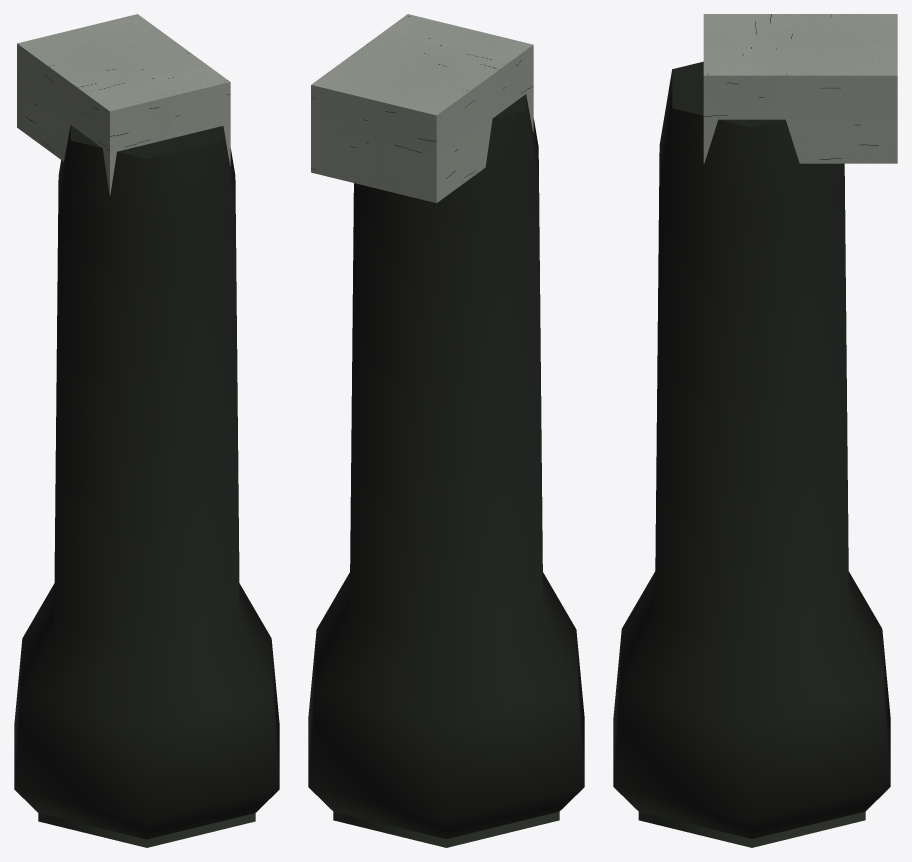
The model's file is SM_FieldKit_Handset_LOD2.glb.
3 views of the same model, side by side, from view 1: azimuth 30°, elevation 25°; view 2: azimuth 150°, elevation 25°; view 3: azimuth 270°, elevation 25° (orthographic). The views are drawn at different scales.
Parts seen in each view (by area): view 1: SM_FieldKit_Handset_LOD2; view 2: SM_FieldKit_Handset_LOD2; view 3: SM_FieldKit_Handset_LOD2.
Boxes of the visible parts, box(x1,y1,x2,y2) form: SM_FieldKit_Handset_LOD2: box(14, 14, 279, 847); SM_FieldKit_Handset_LOD2: box(308, 14, 584, 847); SM_FieldKit_Handset_LOD2: box(613, 14, 897, 847).
Size of the model in its own units: 0.066 by 0.17 by 0.0586.
Materials: 3 (1 with a texture image).
